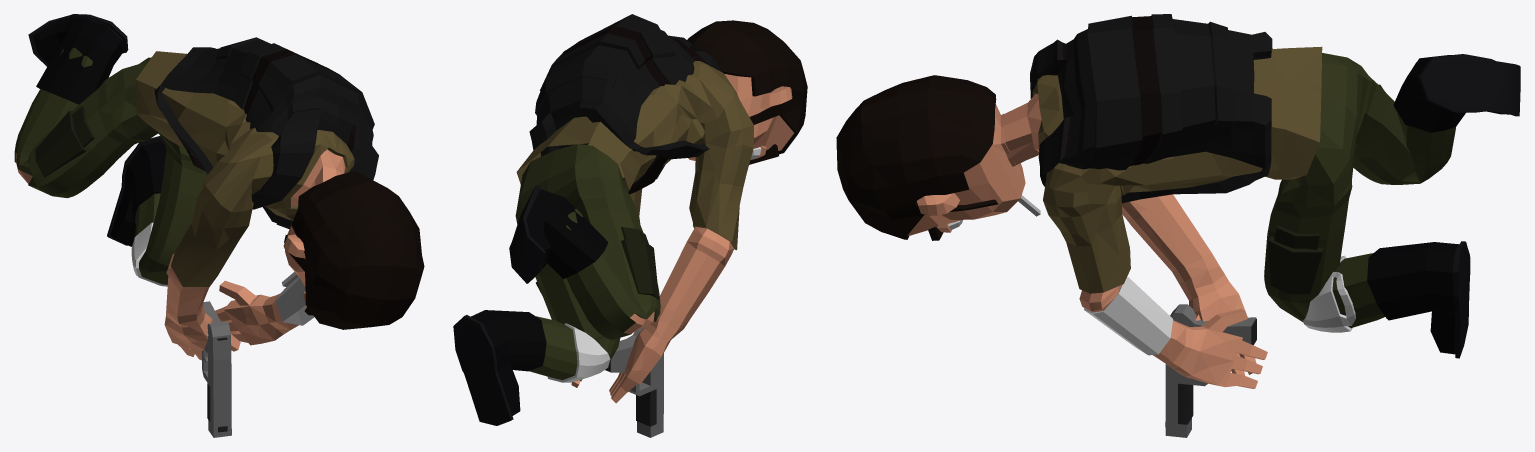
File: frame_0050.obj
3 views of the same model, side by side, from view 1: azimuth 30°, elevation 25°; view 2: azimuth 150°, elevation 25°; view 3: azimuth 270°, elevation 25° (orthographic). The views are drawn at different scales.
Parts seen in each view (by area): view 1: Body, Gun; view 2: Body, Gun; view 3: Body, Gun.
Boxes of the visible parts, x1,y1,x2,y2 form: Body: (14, 14, 424, 360); Gun: (202, 301, 231, 437); Body: (453, 14, 807, 425); Gun: (605, 326, 663, 437); Body: (836, 14, 1520, 388); Gun: (1165, 304, 1256, 437).
Size of the model in its own units: 1.43 by 2.39 by 3.4.
